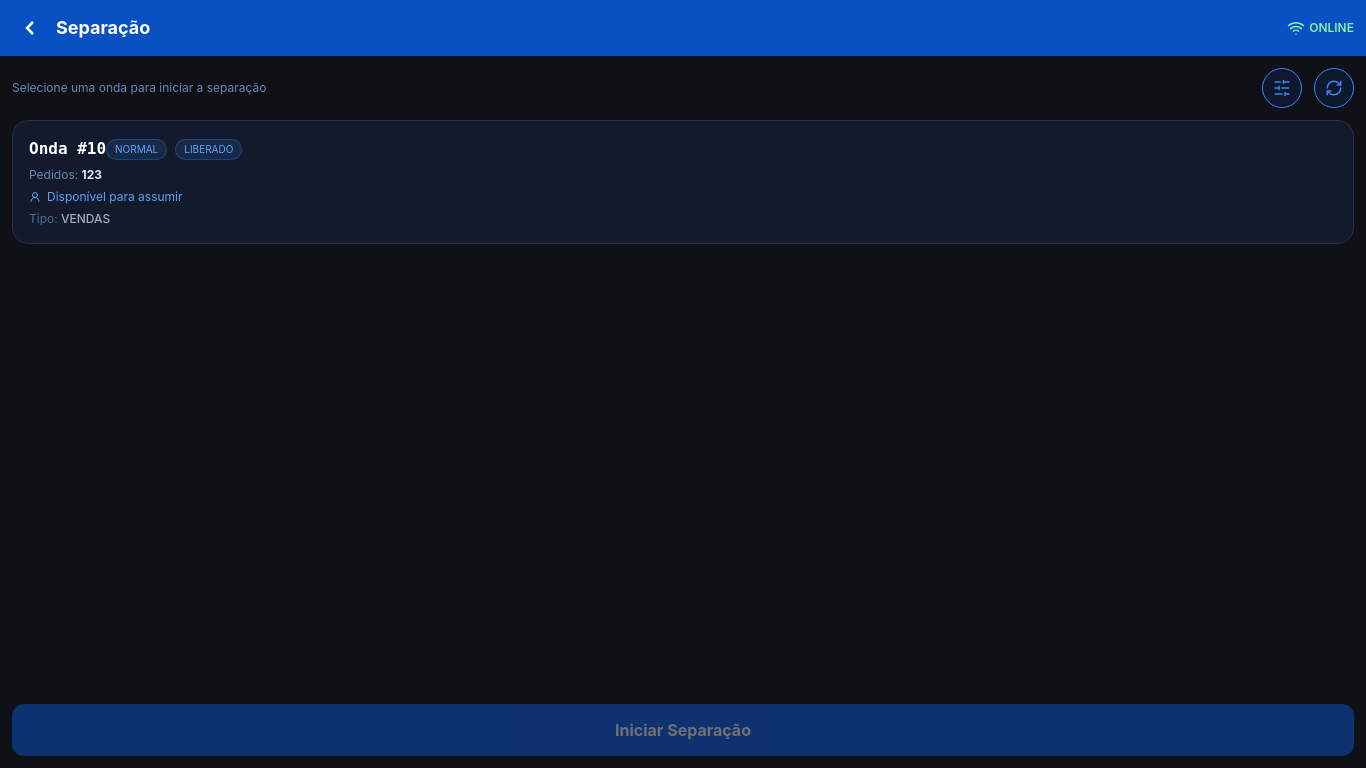
Test case: coletor — convocação híbrida na separação › assumida pelo próprio operador: pode sair da etapa
Later steps or results of the test are not shown.
Step 1. Click the button that starts with "Onda #" → (683, 182), box [12,120,1354,244]
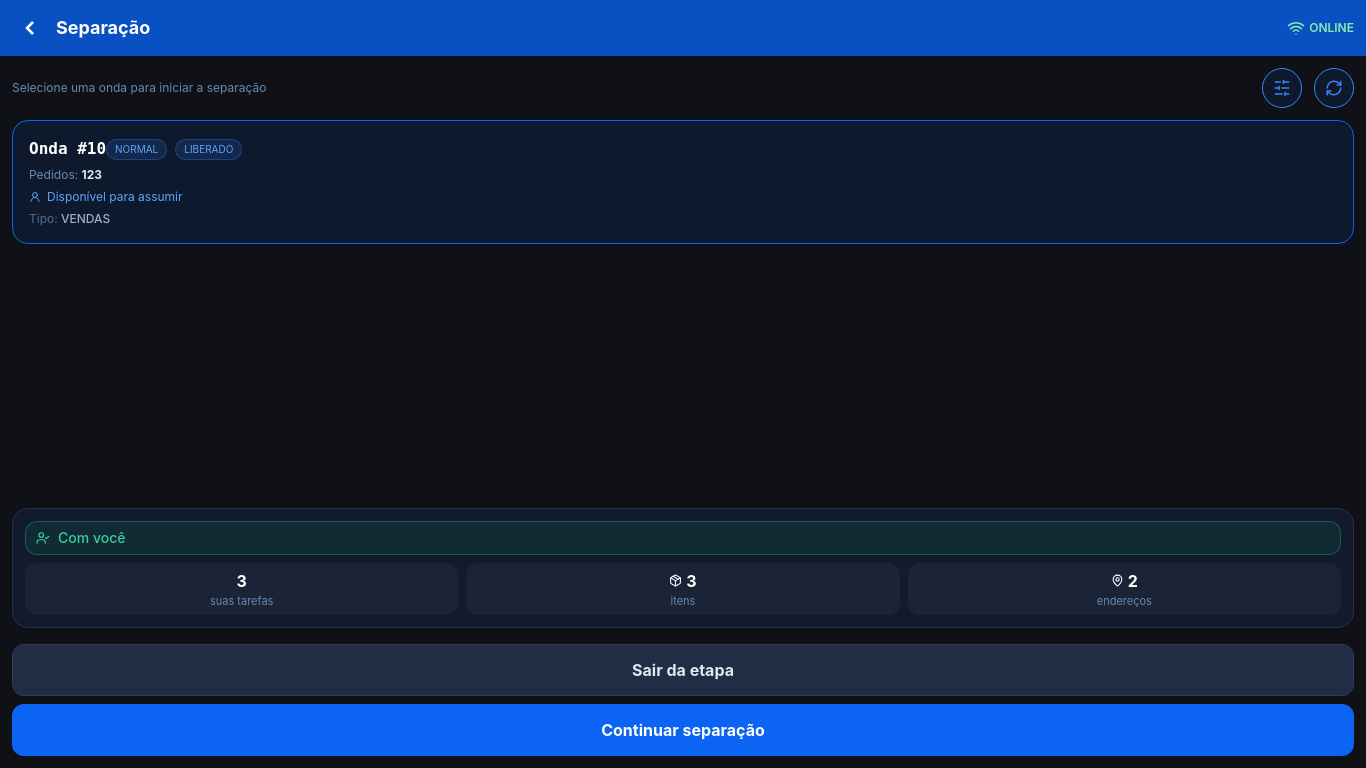
Expected: the button "Continuar separação" is shown, [12,704,1354,756]
Step 2. Click the button "Sair da etapa" → (683, 670), box [12,644,1354,696]
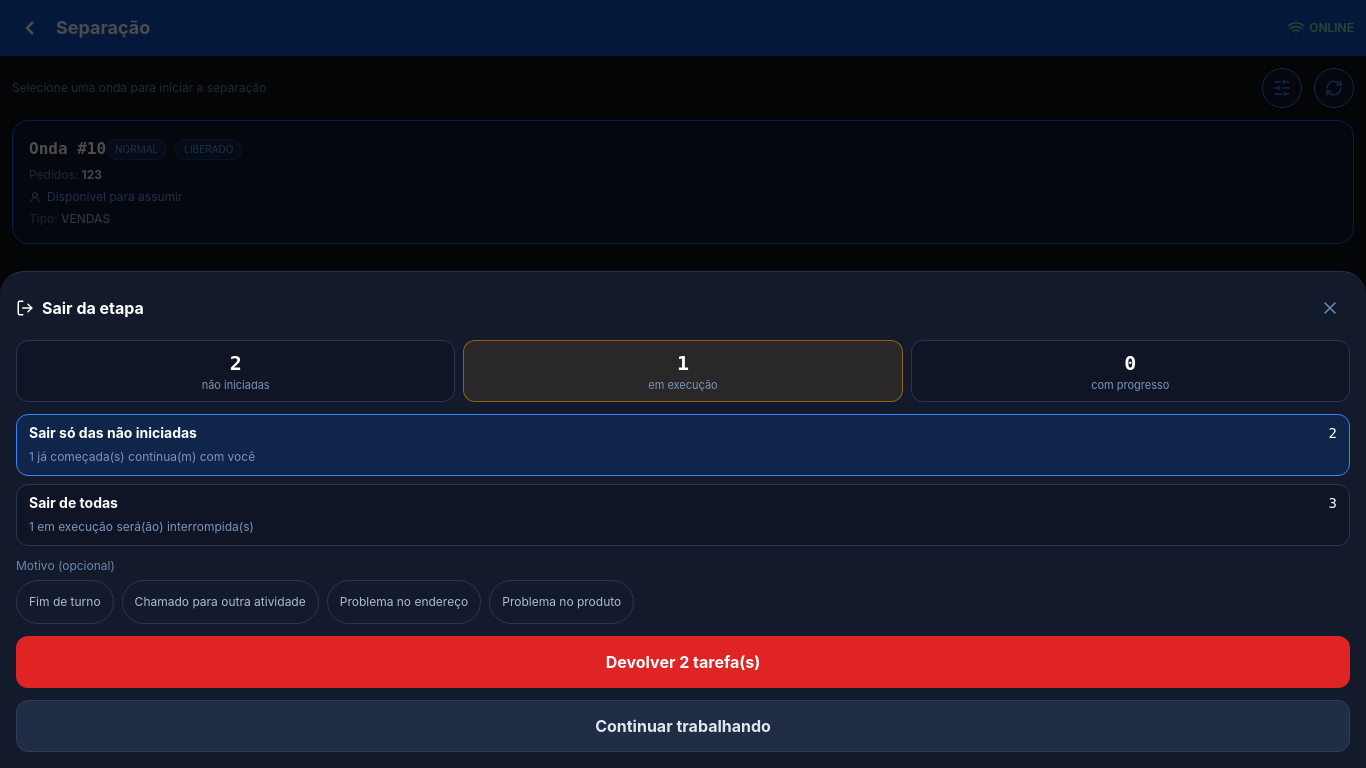
Result: the text "em execução" is shown at [648,378,718,392]
